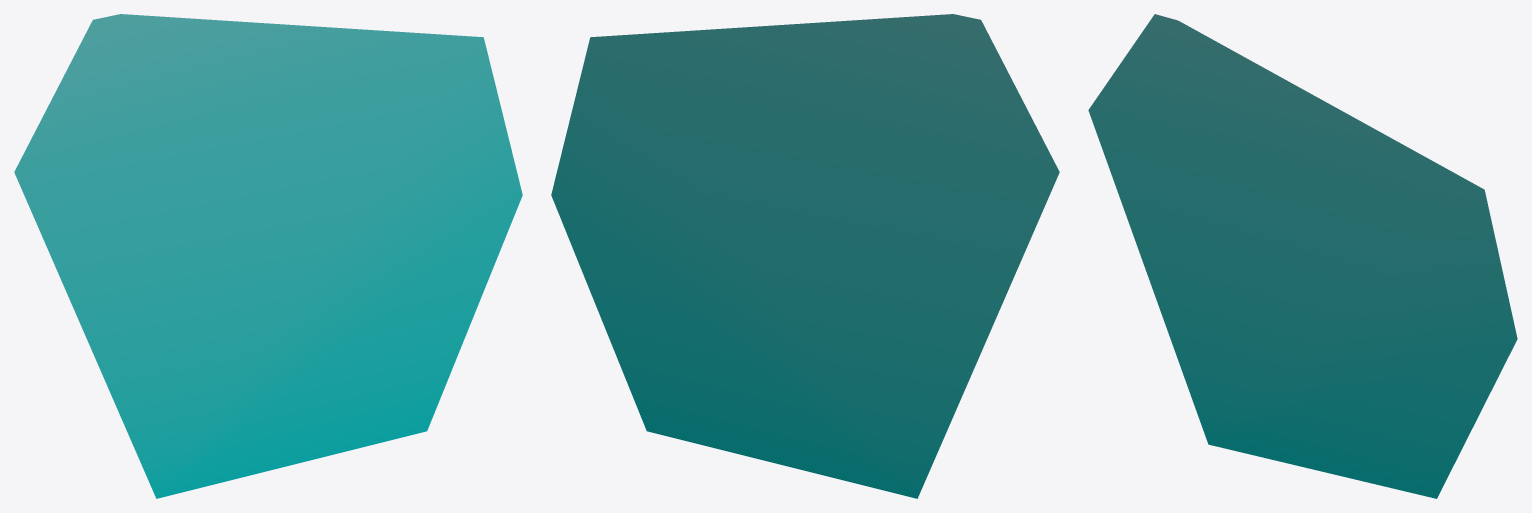
The model's file is Purple_Shamrock_rjrrH_Mid_rjrrH_VarC_LOD3.fbx.
3 views of the same model, side by side, from view 1: azimuth 30°, elevation 25°; view 2: azimuth 150°, elevation 25°; view 3: azimuth 330°, elevation 25° (orthographic). The views are drawn at different scales.
Parts seen in each view (by area): view 1: _de54_VarC_LOD4; view 2: _de54_VarC_LOD4; view 3: _de54_VarC_LOD4.
Part boxes in pixels (<box>): _de54_VarC_LOD4: <box>14,14,522,498</box>; _de54_VarC_LOD4: <box>551,14,1059,498</box>; _de54_VarC_LOD4: <box>1088,14,1517,498</box>.
Size of the model in its own units: 39.47 by 36.68 by 0.
